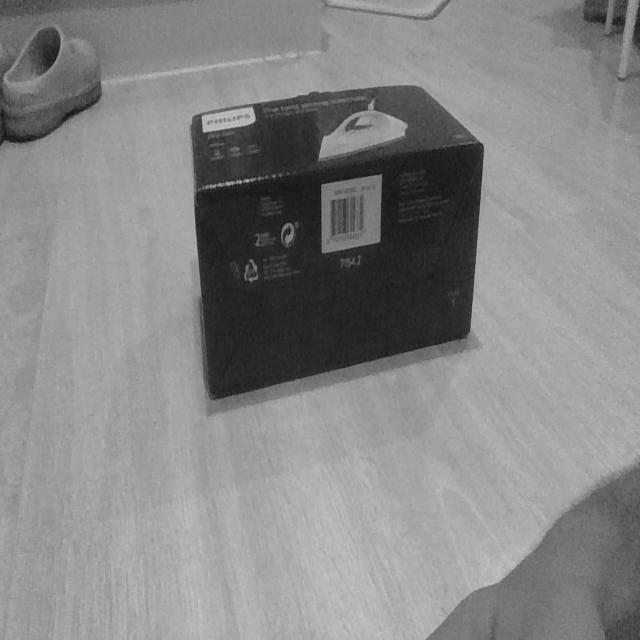IRON: (188, 80, 486, 403)
